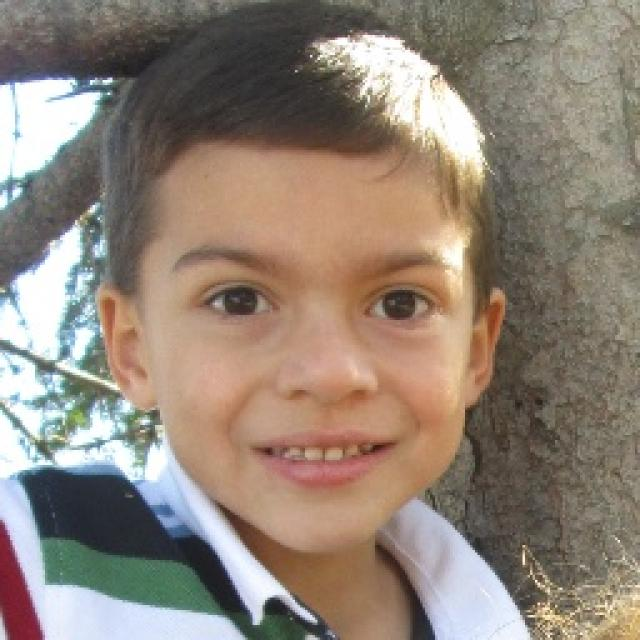earlobe: (125, 374, 157, 413), (463, 370, 486, 410)
eye: (361, 289, 430, 323), (208, 289, 273, 320)
nose: (283, 388, 368, 430)
wholeear: (94, 284, 157, 413), (463, 287, 505, 409)
